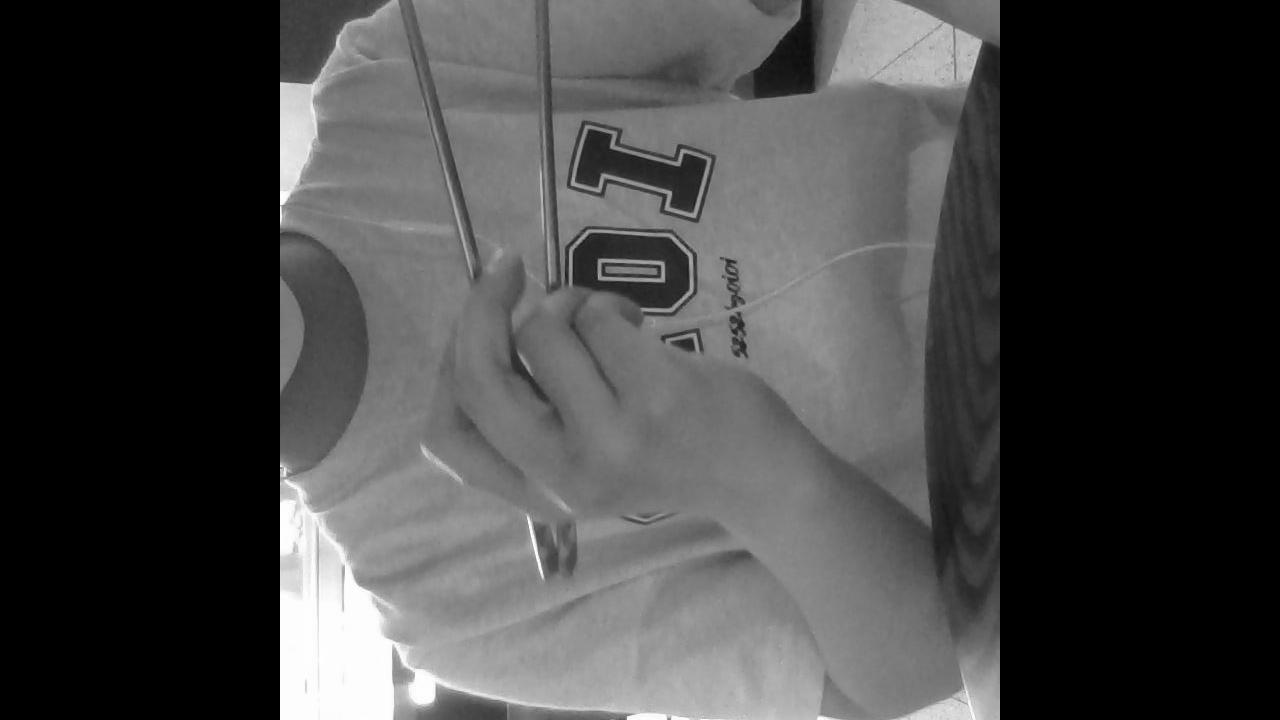chopstick: (378, 0, 558, 576)
hand: (418, 245, 783, 525), (531, 0, 576, 573)
